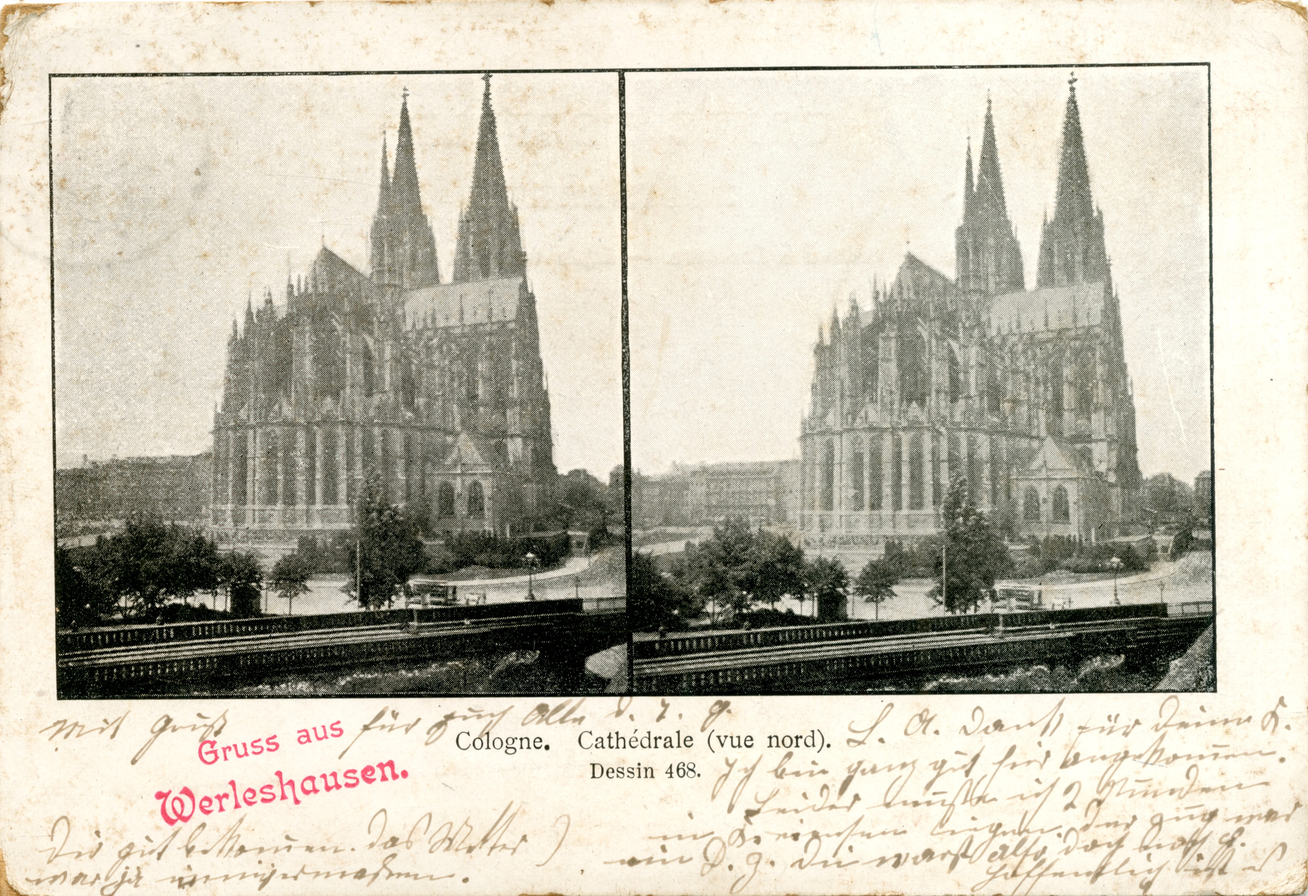half_image: (627, 66, 1214, 692), (53, 73, 627, 699)
